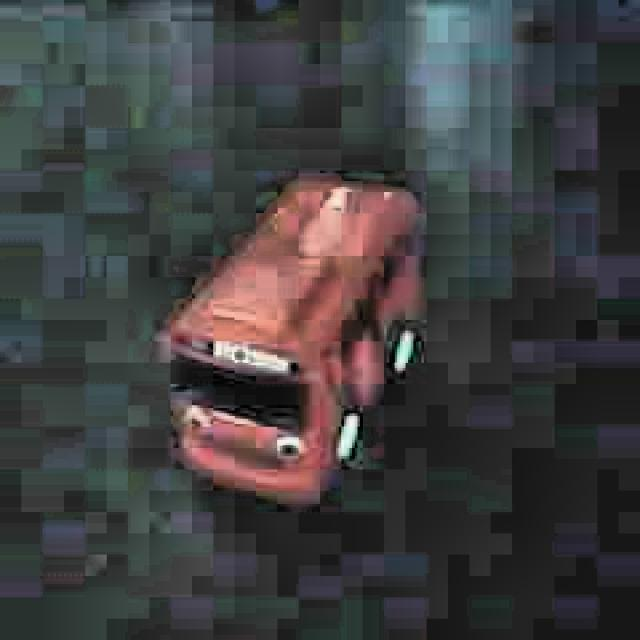bus: (154, 168, 427, 512)
